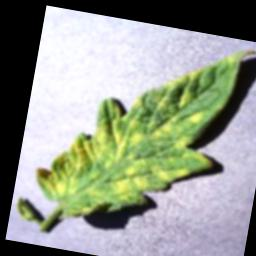Leaf_Mold: (28, 18, 252, 243)
